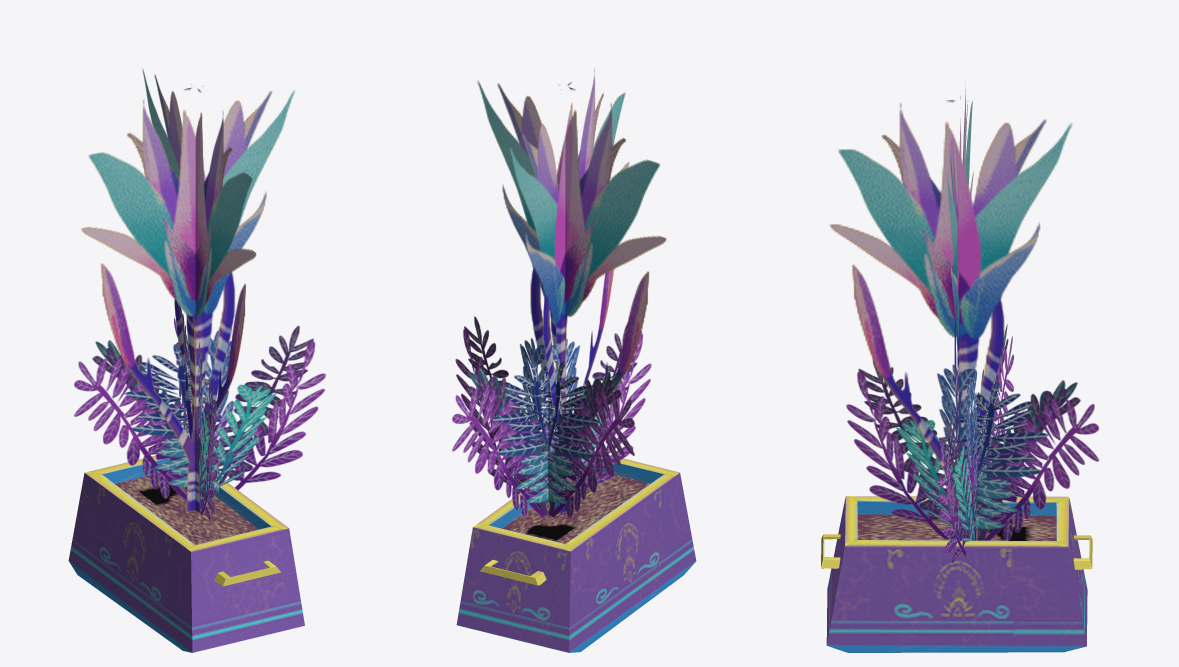
Rendered from Pot_Vapor_02.glb.
3 renders of one model, left to right at view 1: azimuth 30°, elevation 25°; view 2: azimuth 150°, elevation 25°; view 3: azimuth 270°, elevation 25°, orthographic. The views are drawn at different scales.
Parts seen in each view (by area): view 1: Pot_Vapor_02; view 2: Pot_Vapor_02; view 3: Pot_Vapor_02.
Boxes of the visible parts, x1,y1,x2,y2 form: Pot_Vapor_02: [68, 69, 325, 652]; Pot_Vapor_02: [452, 68, 696, 652]; Pot_Vapor_02: [821, 87, 1099, 652].
Size of the model in its own units: 2.09 by 2.99 by 2.1.
2 materials, 2 textured.
